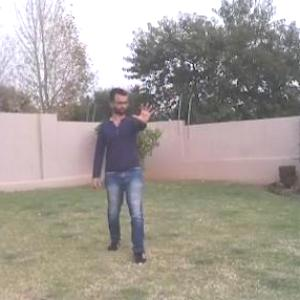follow_hand: (134, 97, 160, 125)
